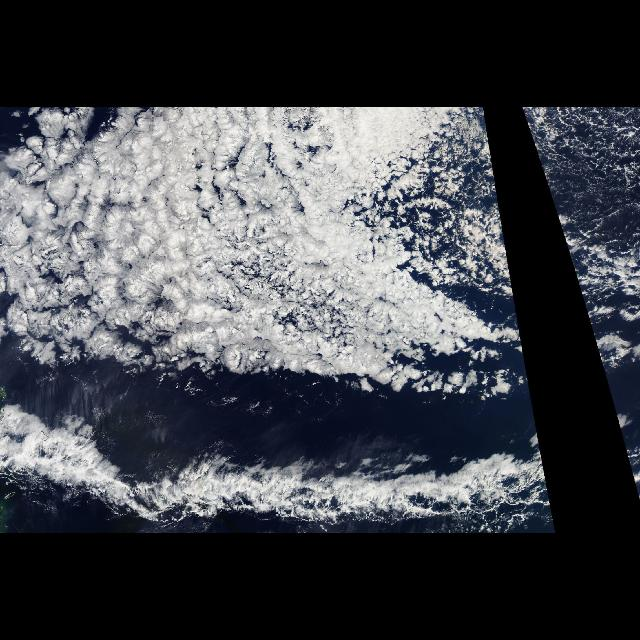Fish: (2, 363, 556, 532), (600, 364, 634, 484)
Gravel: (522, 111, 638, 241), (465, 111, 505, 241)
